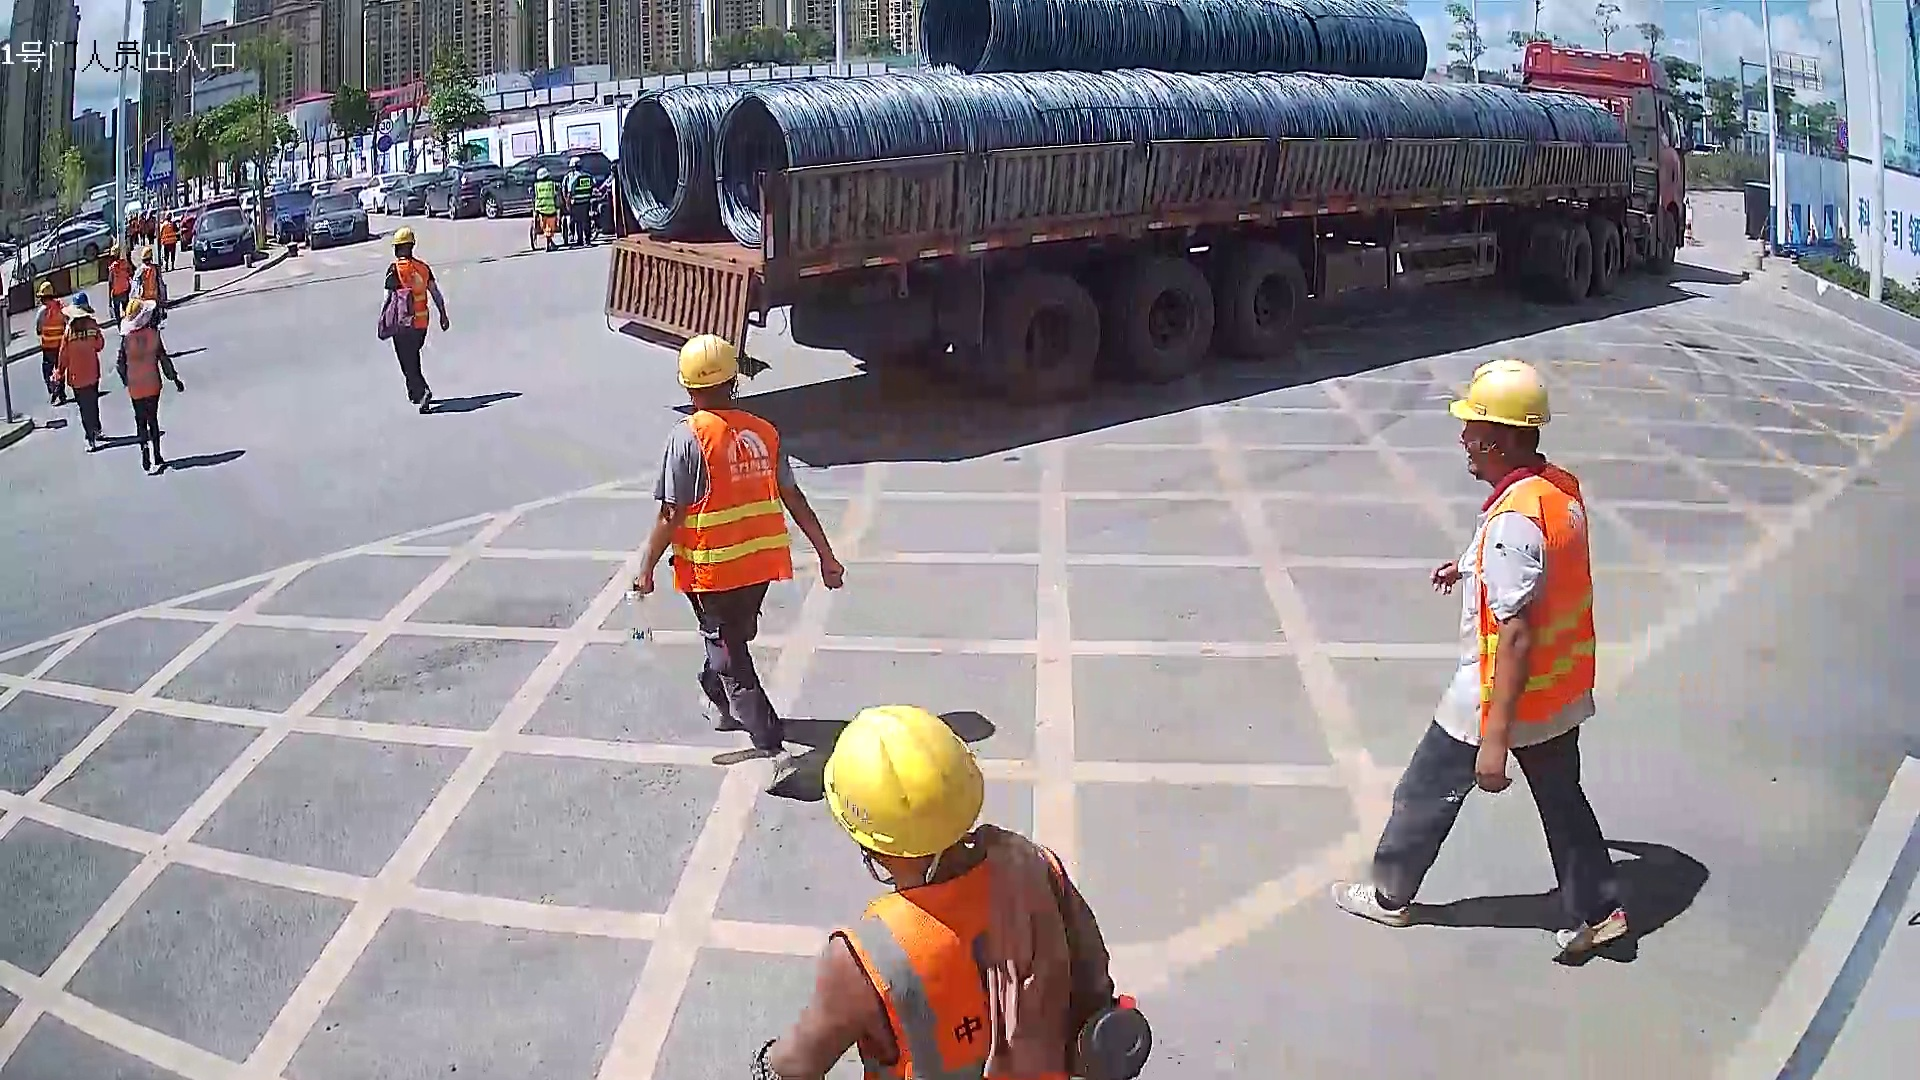person: (1325, 353, 1634, 961), (751, 697, 1120, 1080), (628, 329, 848, 800), (377, 224, 452, 418), (113, 294, 186, 478), (57, 291, 110, 454), (33, 276, 70, 407), (131, 245, 165, 328), (531, 163, 560, 252), (106, 241, 132, 333)
reflective_vest: (830, 846, 1077, 1080), (1472, 460, 1598, 747), (668, 410, 794, 595), (123, 325, 163, 400), (389, 258, 431, 330), (66, 316, 100, 388), (38, 301, 67, 350), (108, 259, 131, 297), (533, 180, 557, 214), (138, 263, 159, 299)
safety_helmet: (821, 698, 986, 890), (1449, 356, 1556, 483), (675, 331, 741, 414), (391, 225, 417, 259), (125, 295, 145, 332), (35, 278, 55, 304), (71, 289, 89, 317), (108, 242, 123, 262), (140, 245, 155, 262), (536, 165, 550, 180)
